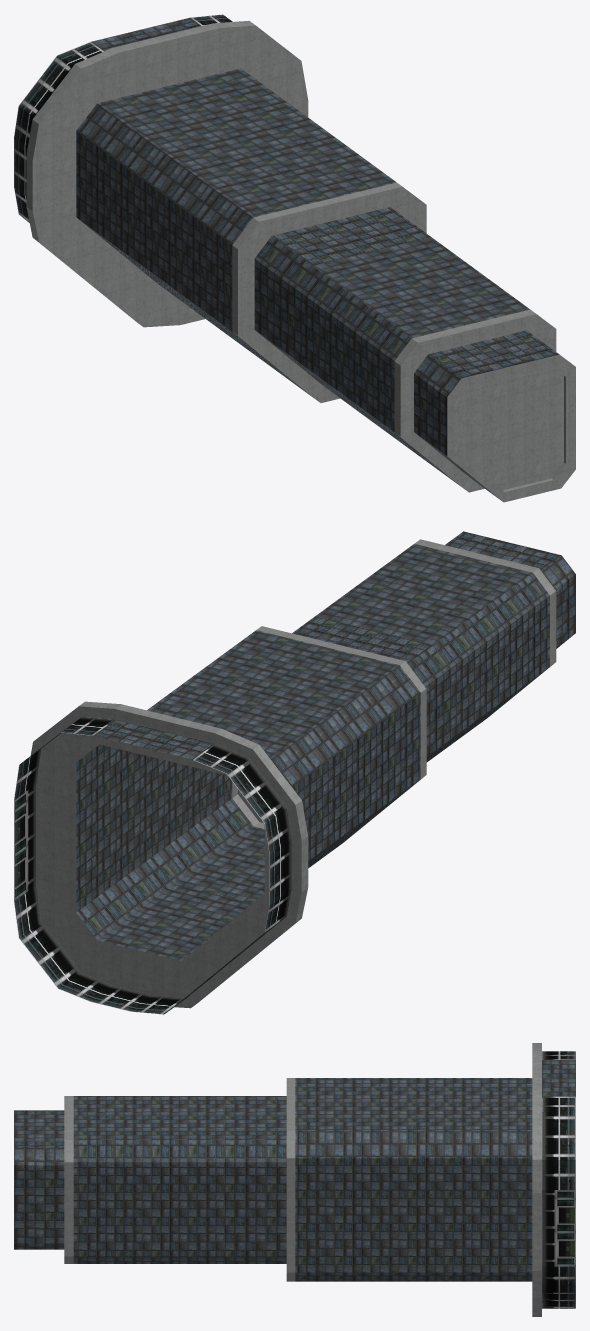
File: skyscraper_windowB_06.obj
3 renders of one model, top to bottom at view 1: azimuth 30°, elevation 25°; view 2: azimuth 150°, elevation 25°; view 3: azimuth 270°, elevation 25°, orthographic. The views are drawn at different scales.
Parts seen in each view (by area): view 1: Object130; view 2: Object130; view 3: Object130.
Boxes of the visible parts, bbox=[...] form: Object130: bbox=[14, 14, 575, 502]; Object130: bbox=[14, 531, 575, 1014]; Object130: bbox=[14, 1043, 575, 1316].
Bounding box in the file's own units: 52.84 × 52.71 × 123.
4 materials, 4 textured.
